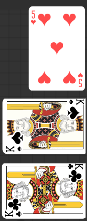5H: (76, 72, 83, 88), (30, 10, 37, 26)
